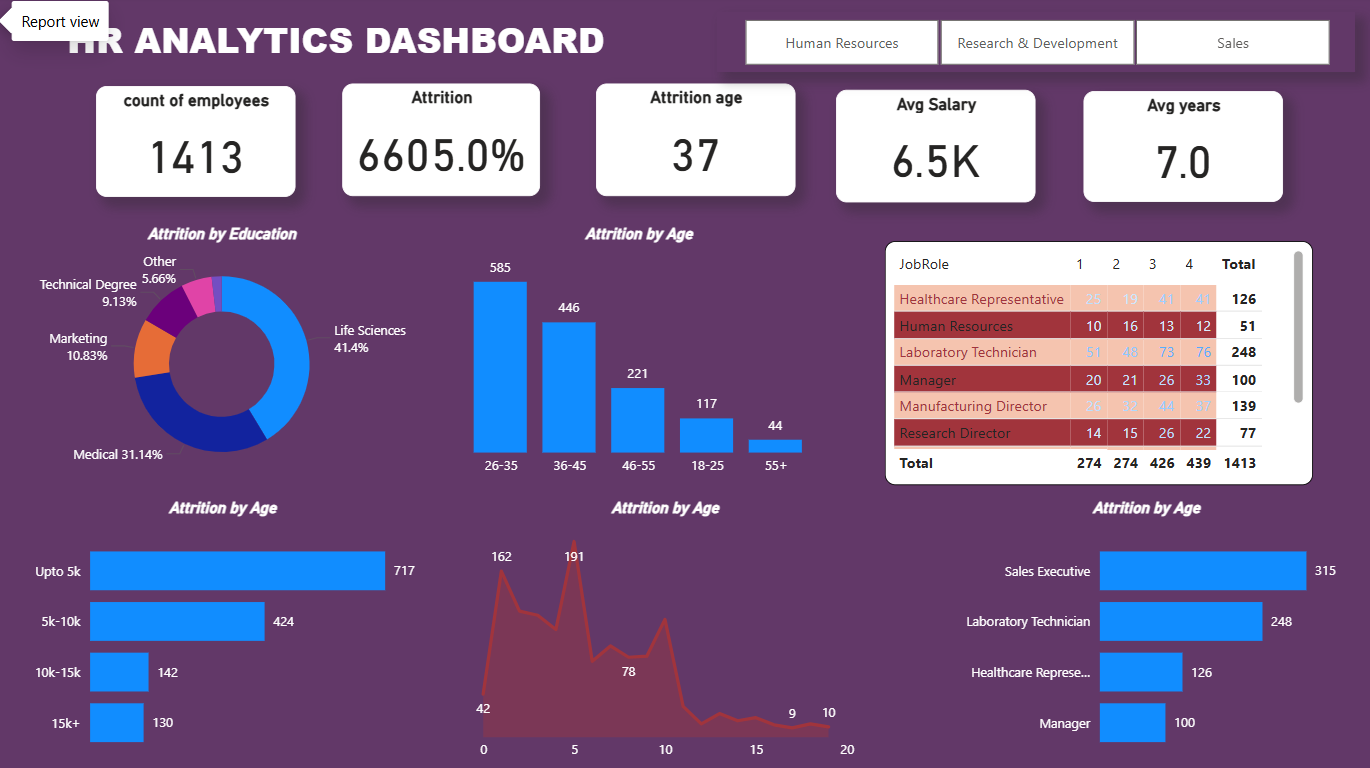

What the dashboard file says about the page in this screenshot:
{"tool":"powerbi","page":{"name":"Page 1","canvas":[1280,720],"ordinal":0},"visuals":[{"type":"card","title":"count of employees","fields":{"Values":["CountNonNull(HR_Analytics.EmpID)"]},"box":[93.3,83.2,185.4,103.4],"z":0},{"type":"card","title":"Attrition","fields":{"Values":["HR_Analytics.AttritionCountt"]},"box":[321.6,82,184.1,104.7],"z":1000},{"type":"card","title":"Attrition age","fields":{"Values":["Avg(HR_Analytics.Age)"]},"box":[558.7,82,185.4,104.7],"z":2000},{"type":"card","title":"Avg Salary","fields":{"Values":["Avg(HR_Analytics.MonthlyIncome)"]},"box":[781.9,87,185.4,104.7],"z":3000},{"type":"card","title":"Avg years","fields":{"Values":["Avg(HR_Analytics.YearsAtCompany)"]},"box":[1011.4,88.3,185.4,103.4],"z":4000},{"type":"donutChart","title":"Attrition by Education","fields":{"Category":["HR_Analytics.EducationField"],"Y":["CountNonNull(HR_Analytics.AttritionCount)"]},"box":[12.6,213.1,394.7,242.1],"z":5000},{"type":"columnChart","title":"Attrition by Age","fields":{"Category":["HR_Analytics.AgeGroup"],"Y":["CountNonNull(HR_Analytics.AttritionCount)"]},"box":[413.6,213.1,368.2,242.1],"z":6000},{"type":"pivotTable","fields":{"Rows":["HR_Analytics.JobRole"],"Columns":["HR_Analytics.JobSatisfaction"],"Values":["Sum(HR_Analytics.EmployeeCount)"]},"box":[827.3,228.3,398.5,227],"z":7000},{"type":"barChart","title":"Attrition by Age","fields":{"Category":["HR_Analytics.SalarySlab"],"Y":["CountNonNull(HR_Analytics.AttritionCount)"]},"box":[26.5,467.9,368.2,252.2],"z":8000},{"type":"barChart","title":"Attrition by Age","fields":{"Category":["HR_Analytics.JobRole"],"Y":["CountNonNull(HR_Analytics.AttritionCount)"]},"box":[886.5,467.9,368.2,252.2],"z":9000},{"type":"areaChart","title":"Attrition by Age","fields":{"Category":["HR_Analytics.YearsAtCompany"],"Y":["CountNonNull(HR_Analytics.AttritionCount)"]},"box":[438.9,467.9,368.2,252.2],"z":10000},{"type":"slicer","fields":{"Values":["HR_Analytics.Department"]},"box":[670.9,15.1,594,55.5],"z":10001},{"type":"textbox","box":[61.8,12.6,536,69.4],"z":10002}]}

Visuals, with their boxes on the page's 1280x720 design canvas (x1, y1, x2, y2). These are canvas units, not pixel positions in the 1370x768 screenshot, which may show the page scaled, cropped or inside an application window:
"count of employees" card: (left=93, top=83, right=279, bottom=187)
"Attrition" card: (left=322, top=82, right=506, bottom=187)
"Attrition age" card: (left=559, top=82, right=744, bottom=187)
"Avg Salary" card: (left=782, top=87, right=967, bottom=192)
"Avg years" card: (left=1011, top=88, right=1197, bottom=192)
"Attrition by Education" donutChart: (left=13, top=213, right=407, bottom=455)
"Attrition by Age" columnChart: (left=414, top=213, right=782, bottom=455)
pivotTable - HR_Analytics.JobRole x HR_Analytics.JobSatisfaction: (left=827, top=228, right=1226, bottom=455)
"Attrition by Age" barChart: (left=26, top=468, right=395, bottom=720)
"Attrition by Age" barChart: (left=886, top=468, right=1255, bottom=720)
"Attrition by Age" areaChart: (left=439, top=468, right=807, bottom=720)
slicer - HR_Analytics.Department: (left=671, top=15, right=1265, bottom=71)
textbox: (left=62, top=13, right=598, bottom=82)
